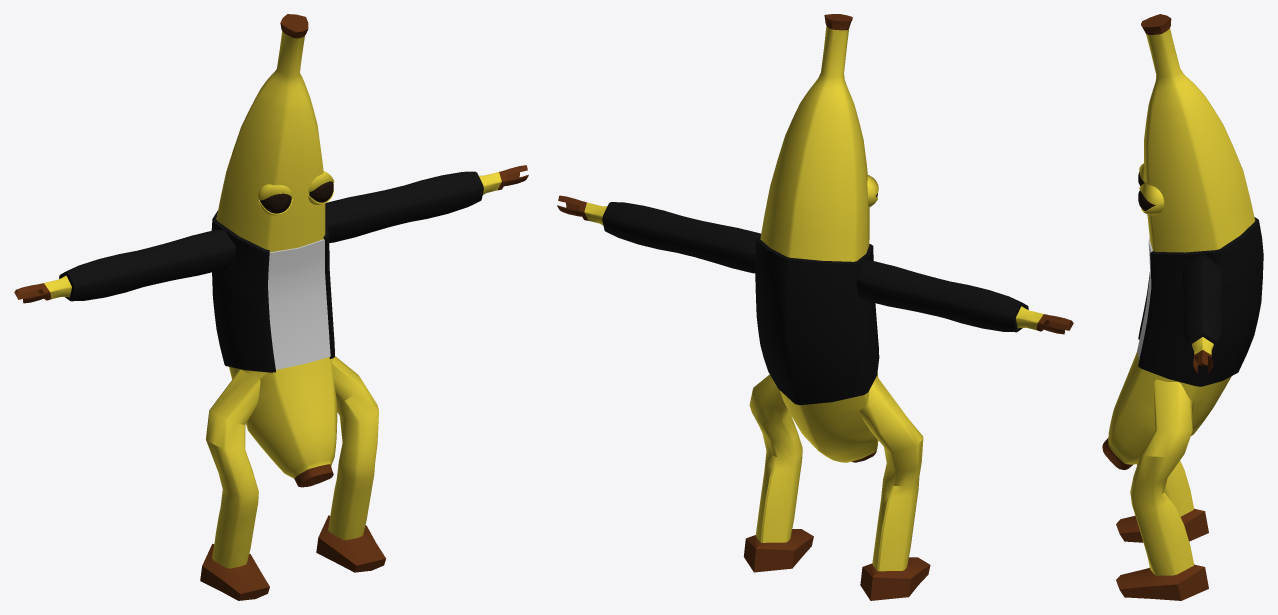
The model's file is Banana Leather Jacket.fbx.
The picture shows the model from 3 angles, left to right: view 1: azimuth 30°, elevation 25°; view 2: azimuth 150°, elevation 25°; view 3: azimuth 270°, elevation 25°; orthographic projection.
Parts seen in each view (by area): view 1: Banana; view 2: Banana; view 3: Banana, Eyelid.R.
Boxes of the visible parts, <box> form: Banana: <box>14,14,528,600</box>; Banana: <box>557,14,1073,600</box>; Banana: <box>1102,14,1263,600</box>; Eyelid.R: <box>1139,182,1164,215</box>.
Bounding box in the file's own units: 875 × 904 × 243.
